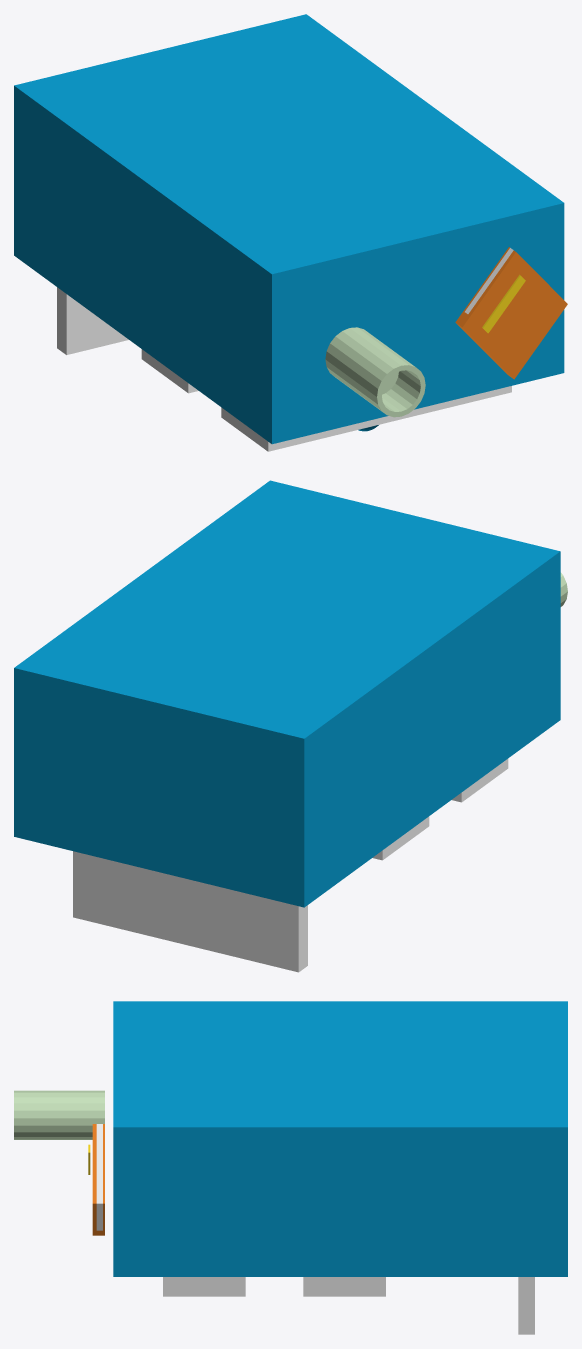
File: tinker.obj
3 renders of one model, top to bottom at view 1: azimuth 30°, elevation 25°; view 2: azimuth 150°, elevation 25°; view 3: azimuth 270°, elevation 25°, orthographic. The views are drawn at different scales.
Parts seen in each view (by area): view 1: group_0_40919, group_0_16089887, group_0_16448250, group_0_13165757, group_0_16768282; view 2: group_0_40919, group_0_16448250; view 3: group_0_40919, group_0_16448250, group_0_13165757, group_0_16089887.
Boxes of the visible parts, x1,y1,x2,y2 form: group_0_40919: (14, 14, 564, 444); group_0_16089887: (455, 247, 567, 379); group_0_16448250: (57, 248, 513, 451); group_0_13165757: (325, 327, 425, 417); group_0_16768282: (482, 274, 525, 333); group_0_40919: (14, 480, 560, 907); group_0_16448250: (73, 758, 508, 972); group_0_40919: (113, 1001, 567, 1276); group_0_16448250: (96, 1124, 534, 1334); group_0_13165757: (14, 1090, 104, 1139); group_0_16089887: (92, 1124, 104, 1235).
Bounding box in the file's own units: 36 × 30 × 67.
